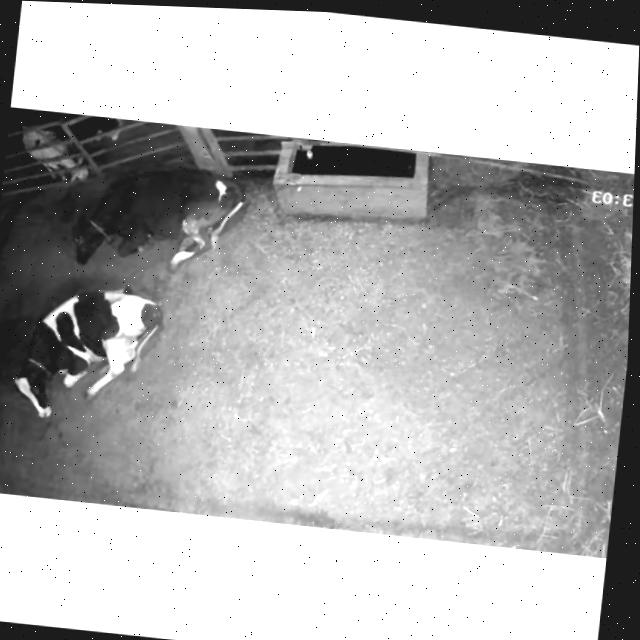lay: (0, 267, 185, 444), (53, 135, 261, 287)
